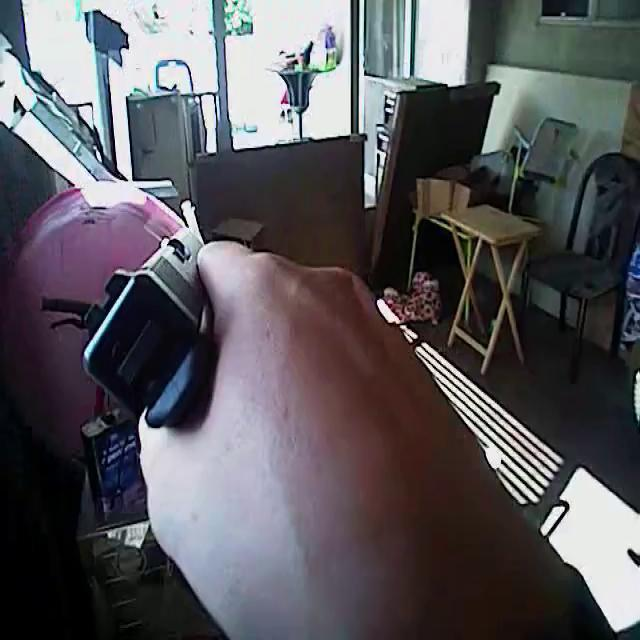gun: (16, 184, 284, 462)
